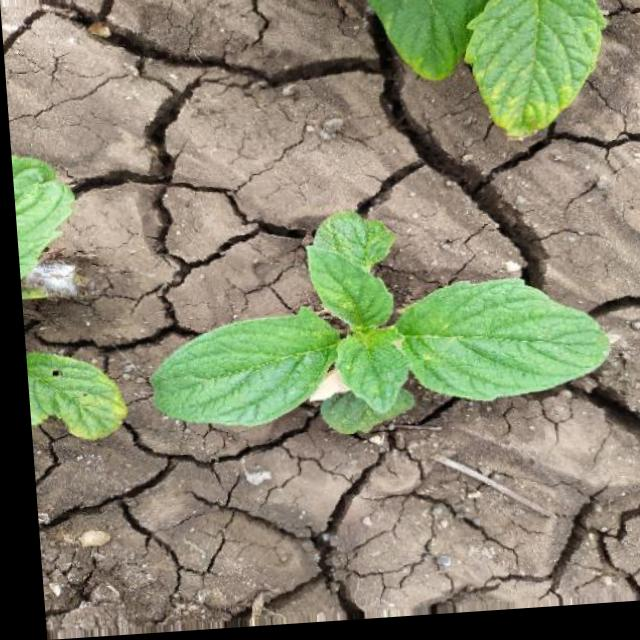crop: (138, 205, 611, 464), (342, 0, 617, 152)
